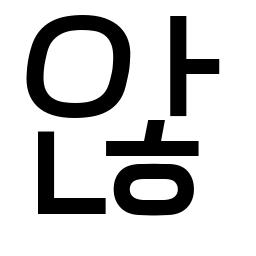Gaji: (157, 49, 203, 91)
